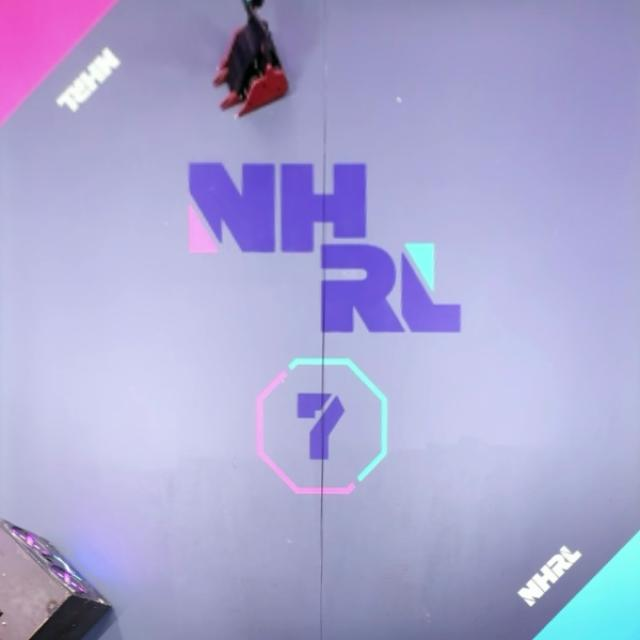housebot: (0, 519, 115, 640)
robot: (210, 2, 292, 118)
